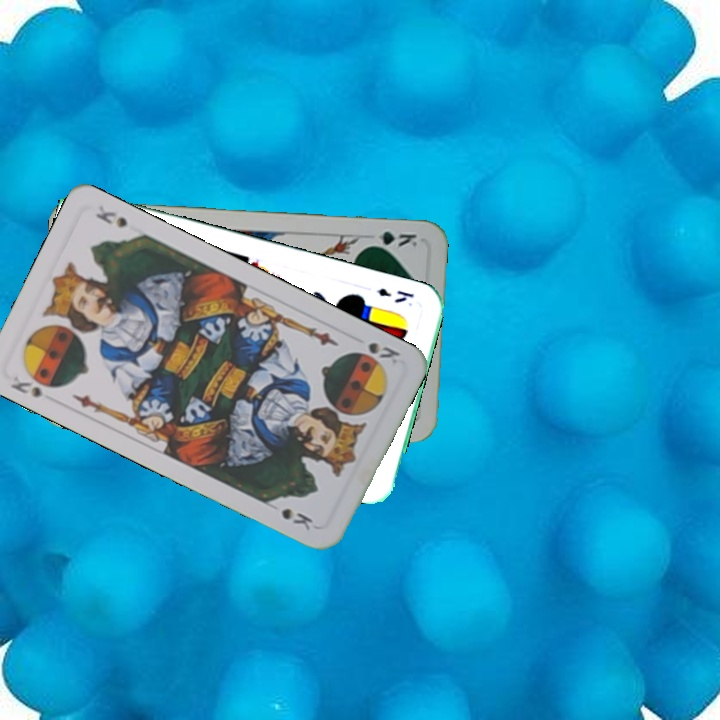EK: (373, 284, 416, 306)
GK: (362, 227, 420, 250)
SK: (6, 372, 47, 400), (364, 338, 403, 367)
